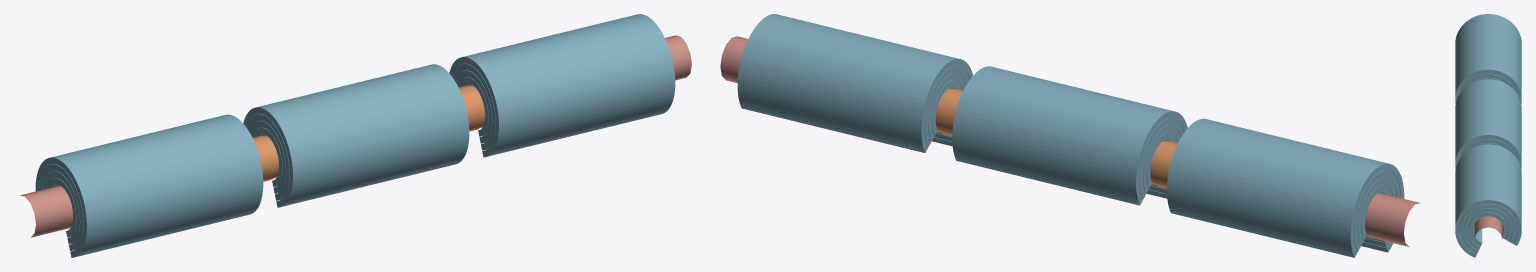
The model's file is myelinated-axon.glb.
3 renders of one model, left to right at view 1: azimuth 30°, elevation 25°; view 2: azimuth 150°, elevation 25°; view 3: azimuth 270°, elevation 25°, orthographic. The views are drawn at different scales.
Visible parts, largest first — view 1: Proximal myelin, Middle myelin, Distal myelin, Axon, First node, Second node; view 2: Proximal myelin, Distal myelin, Middle myelin, Axon, Second node, First node; view 3: Distal myelin, Proximal myelin, Middle myelin, Axon.
Part boxes in pixels (x1,y1,x2,y2): Proximal myelin: (35, 114, 263, 257); Middle myelin: (243, 64, 469, 207); Distal myelin: (449, 14, 675, 157); Axon: (20, 35, 691, 237); First node: (253, 136, 277, 181); Second node: (458, 85, 483, 131); Proximal myelin: (1167, 118, 1404, 257); Distal myelin: (737, 14, 972, 152); Middle myelin: (952, 66, 1187, 205); Axon: (720, 36, 1420, 246); Second node: (937, 88, 962, 136); First node: (1151, 141, 1177, 188); Distal myelin: (1455, 144, 1521, 257); Proximal myelin: (1455, 14, 1521, 103); Middle myelin: (1455, 79, 1521, 168); Axon: (1474, 216, 1502, 239).
Size of the model in its own units: 0.0398 by 0.00518 by 0.0054.
